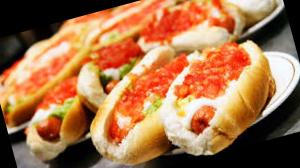Completos: (140, 30, 294, 163)
